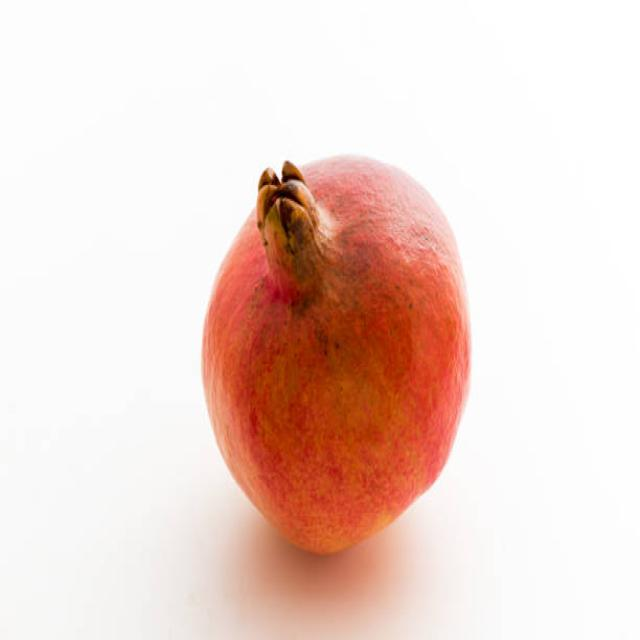overripe: (197, 146, 476, 565)
